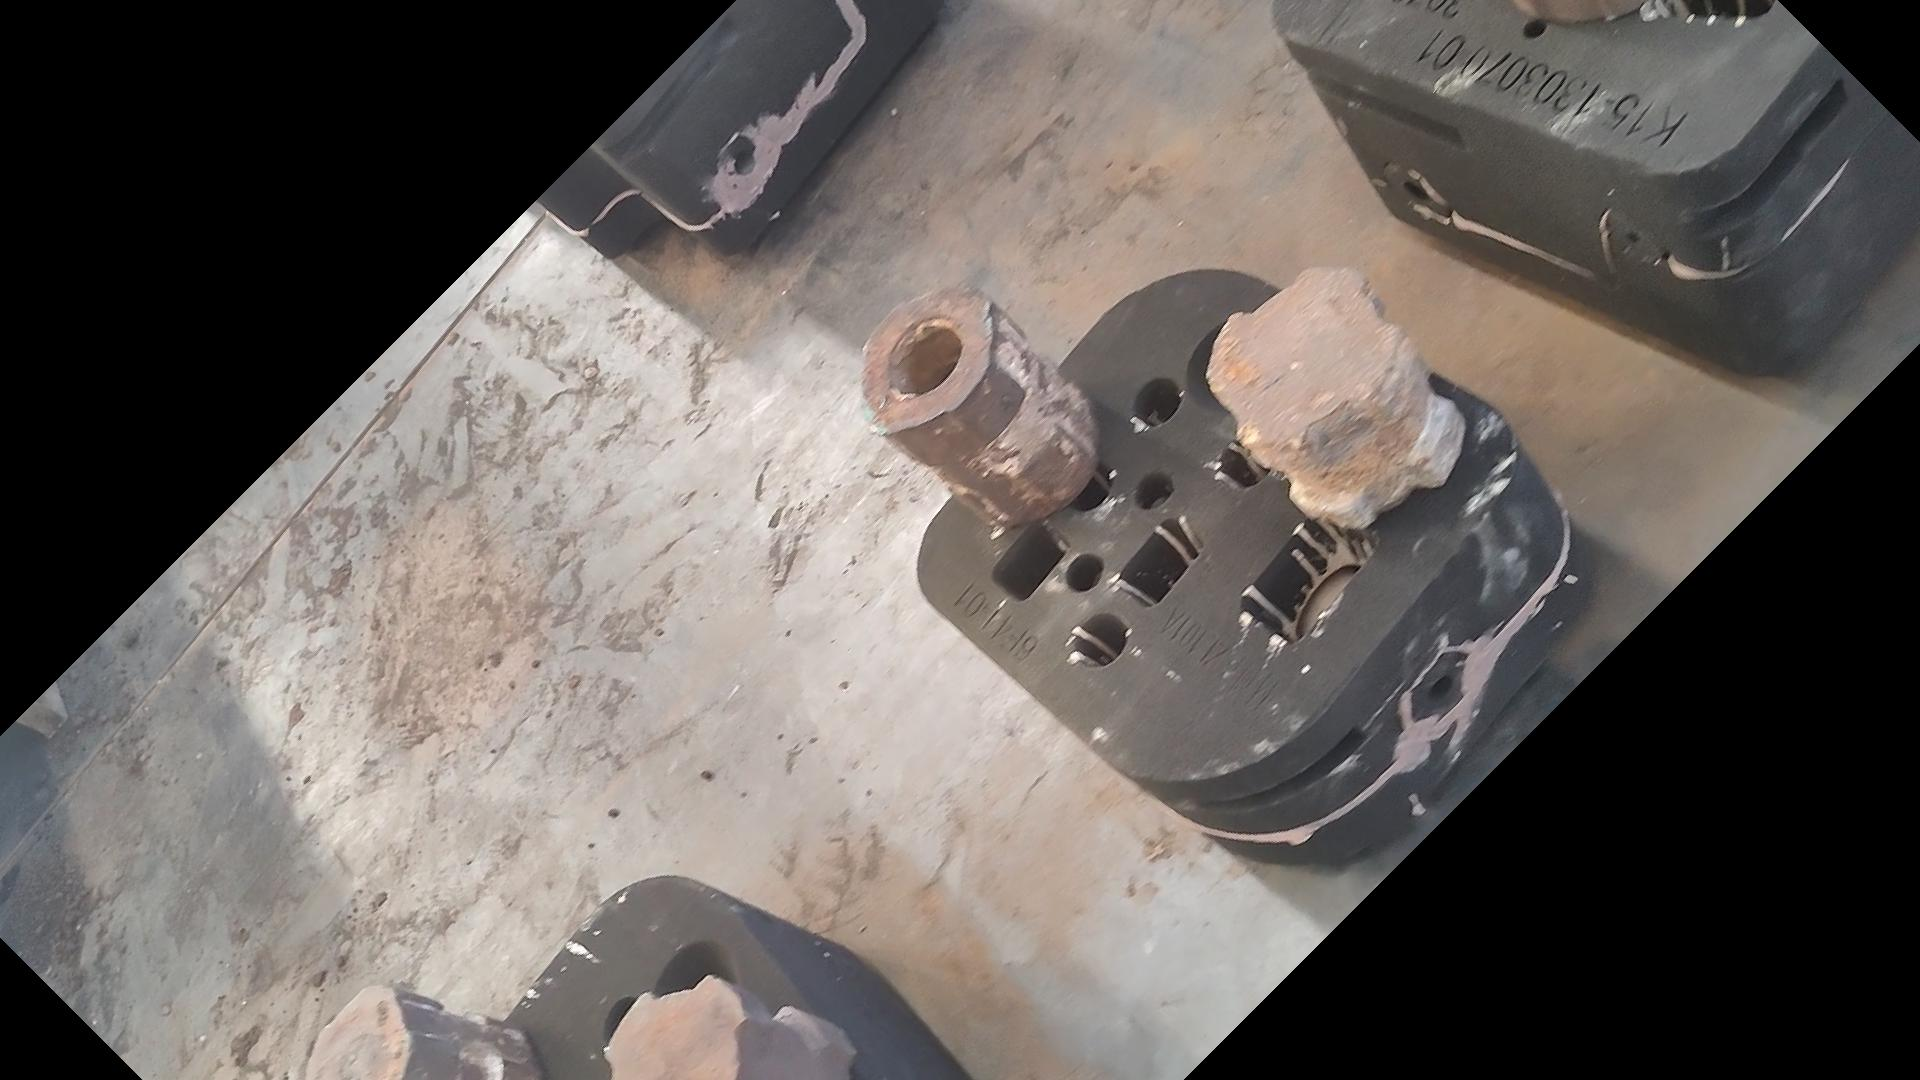pouring hole: (1185, 310, 1288, 413), (649, 939, 742, 1021)
